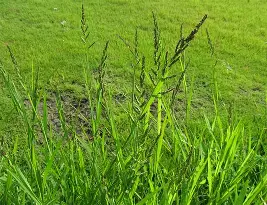weed: (0, 7, 266, 204), (84, 0, 266, 120)
